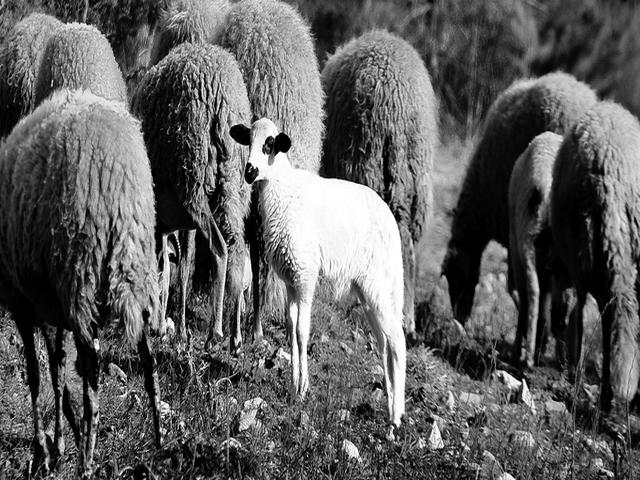sheep: (216, 93, 438, 413)
